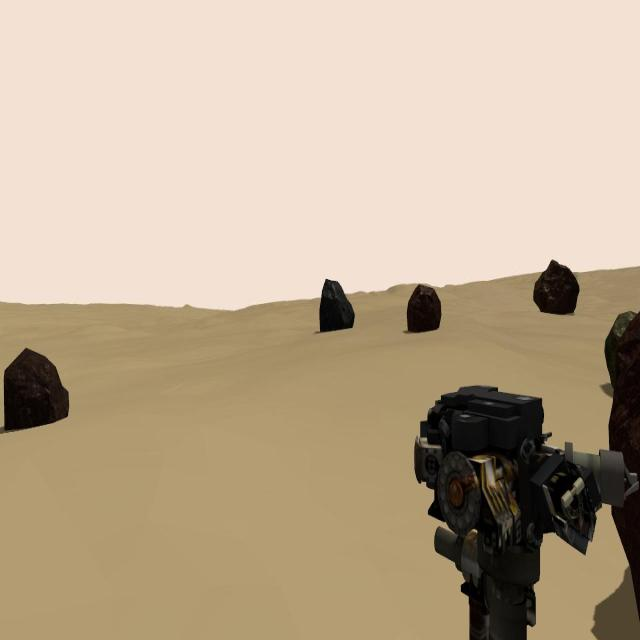rock: (609, 310, 640, 617), (4, 348, 69, 433), (604, 310, 640, 390), (533, 259, 579, 314), (319, 280, 355, 334), (408, 282, 442, 332)
